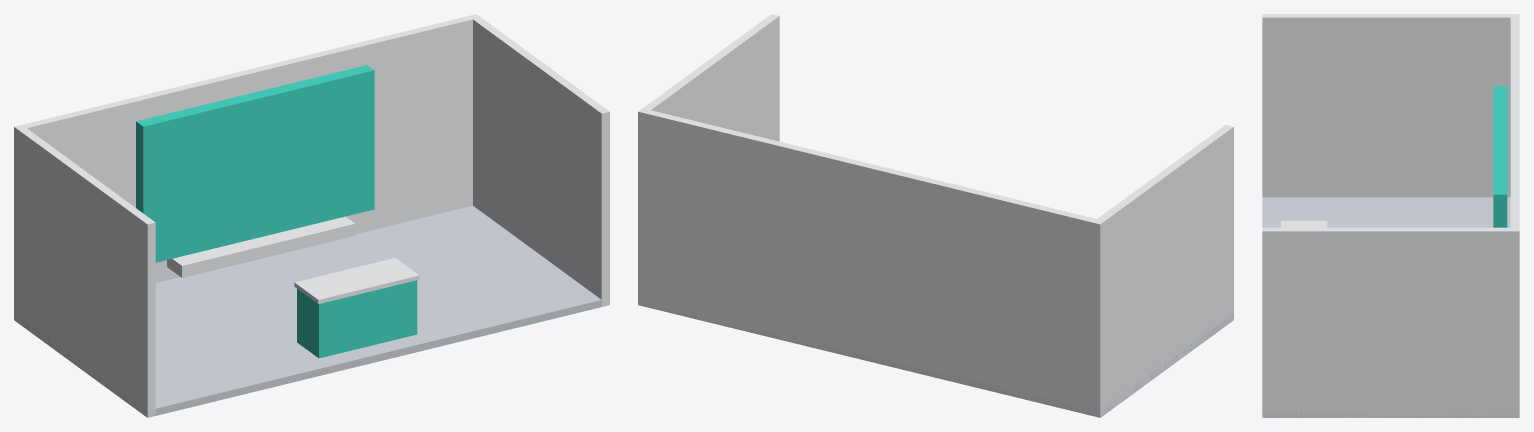
The picture shows the model from 3 angles, left to right: view 1: azimuth 30°, elevation 25°; view 2: azimuth 150°, elevation 25°; view 3: azimuth 270°, elevation 25°; orthographic projection. The views are drawn at different scales.
Visible parts, largest first — view 1: Exhibition Booth Concept; view 2: Exhibition Booth Concept; view 3: Exhibition Booth Concept.
Part boxes in pixels (bbox=[...]): Exhibition Booth Concept: bbox=[14, 14, 609, 417]; Exhibition Booth Concept: bbox=[638, 14, 1233, 417]; Exhibition Booth Concept: bbox=[1262, 14, 1519, 417].
Size of the model in its own units: 8 by 3.2 by 4.
